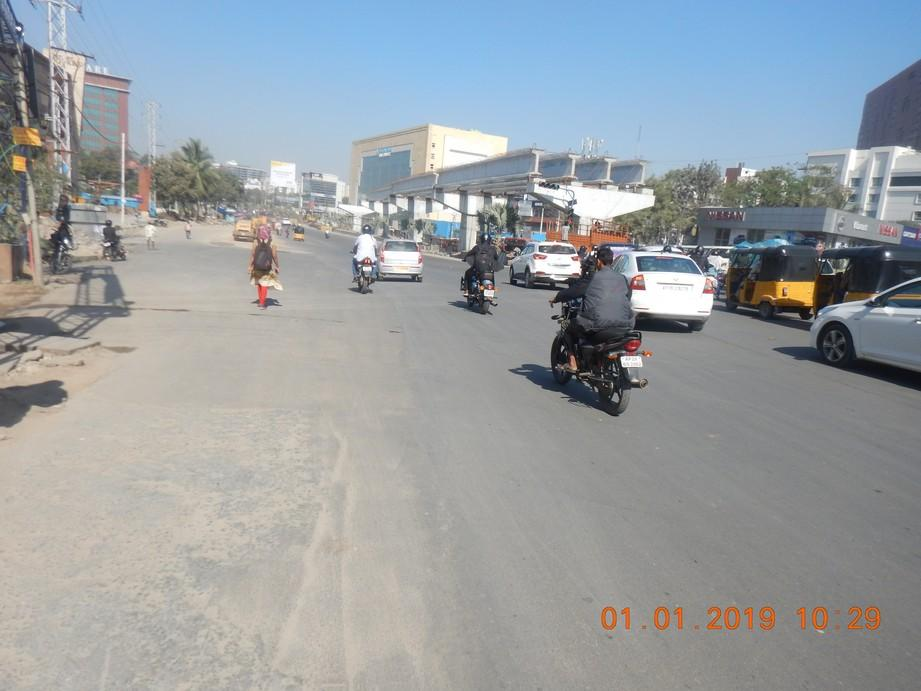plate: (620, 355, 644, 368)
